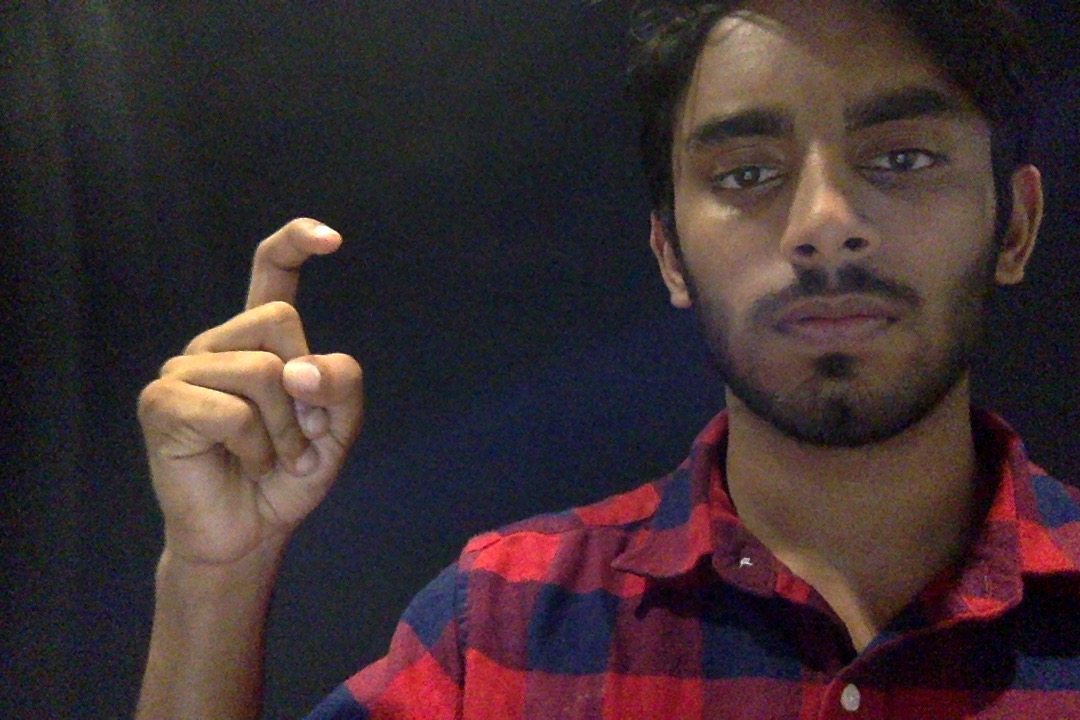x: (113, 182, 415, 590)
